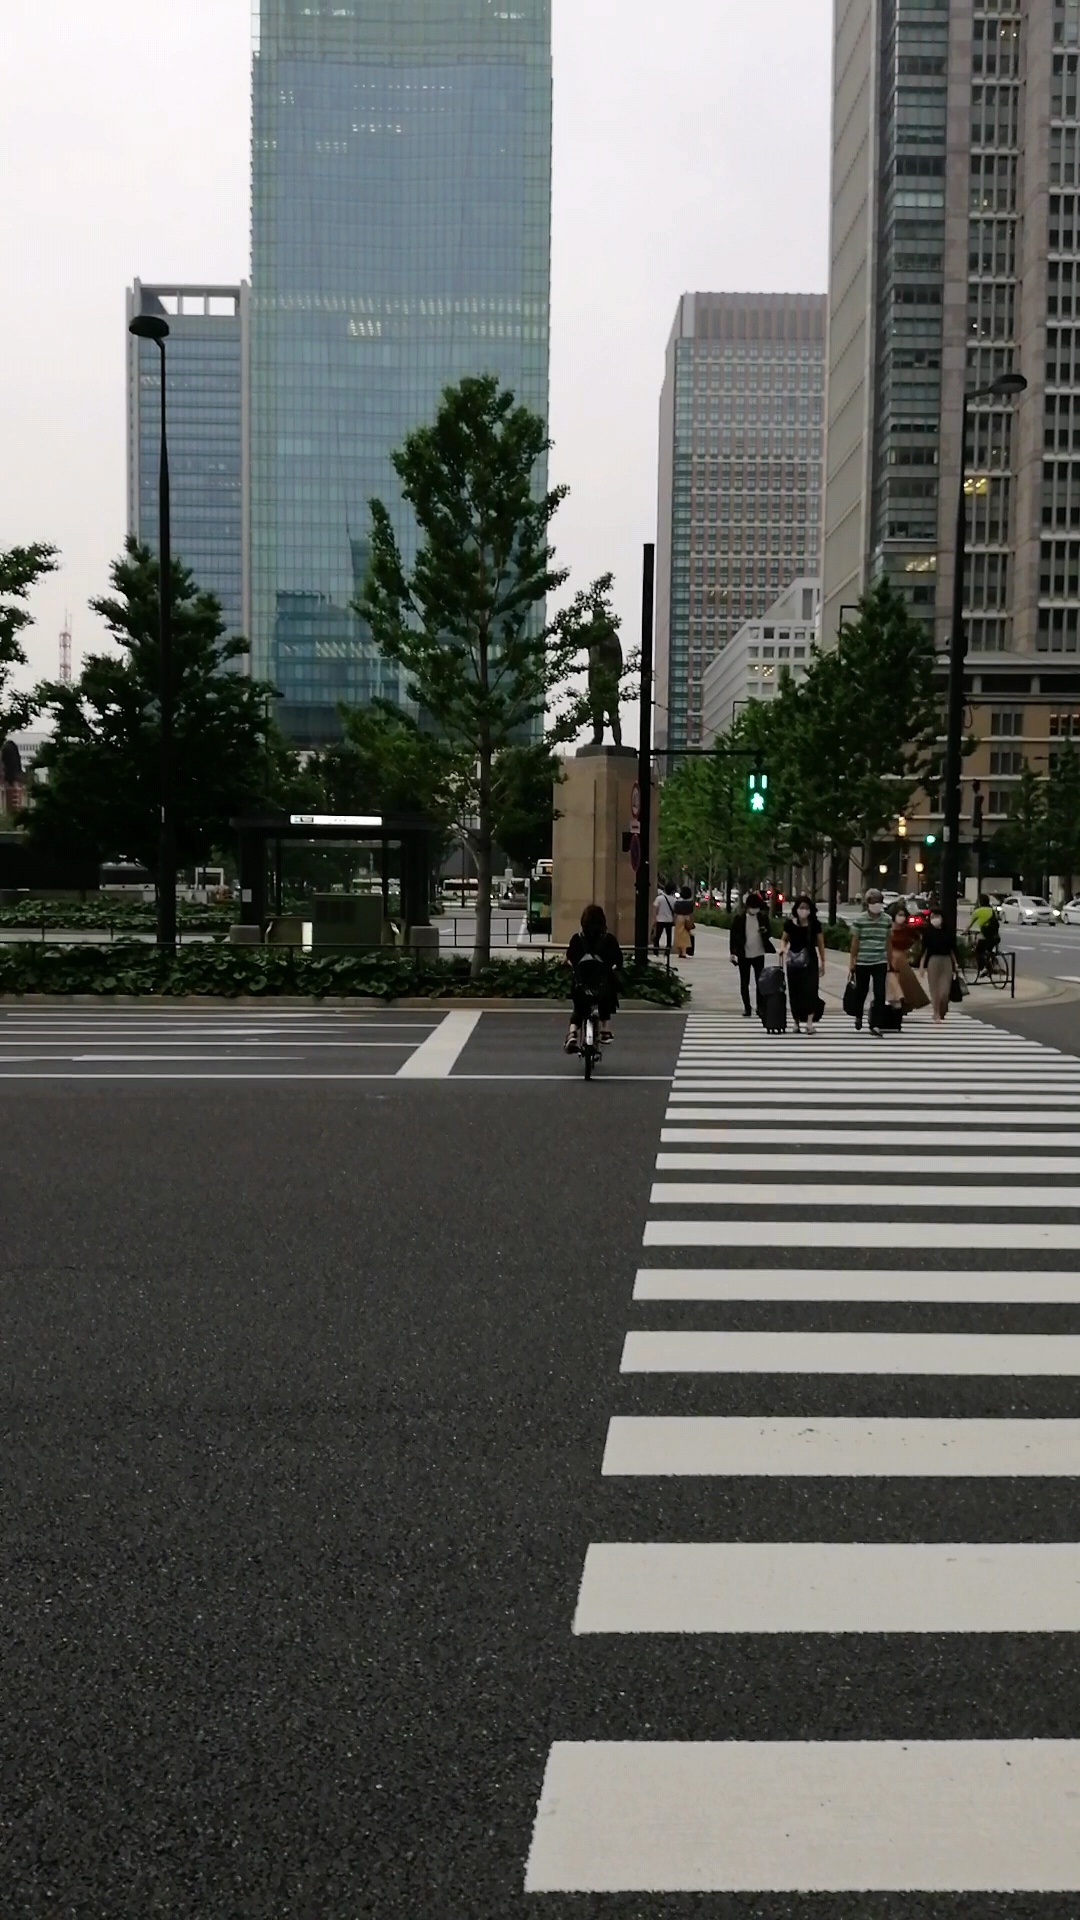green: (744, 766, 771, 818)
